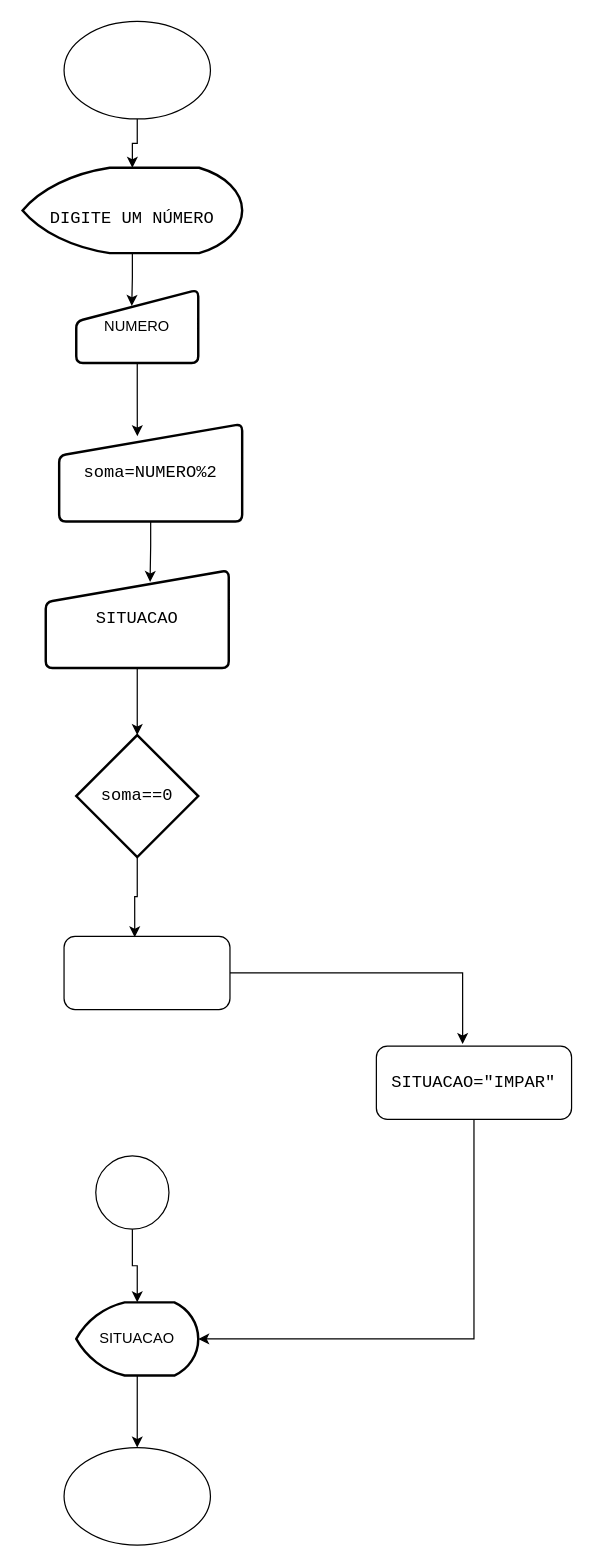
This 593x1566 diagram has some shape labels left out. The centre of each missing label's shape, as x and y in pixels:
FIM: pixel 136 1495
INICIO: pixel 136 69
SITUACAO="PAR": pixel 146 972
